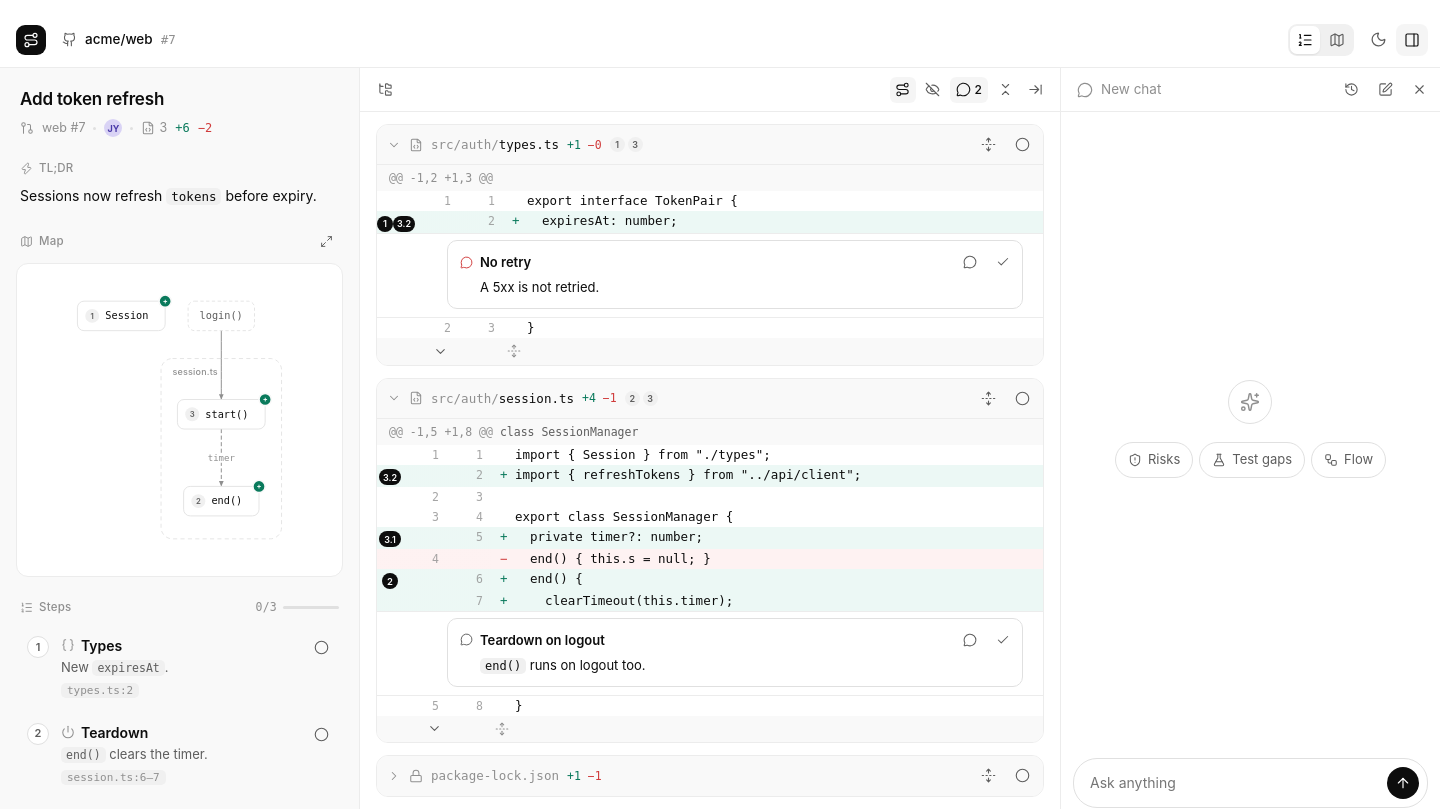
Test: viewed collapses; skippable row expands lockfile; gutter dot focuses step
Check: the heading "Add token refresh" is shown, box [20, 89, 164, 109]
Click the 1st button named "Viewed". click: (1022, 144)
box: [1009, 132, 1035, 158]
(page scrolled)
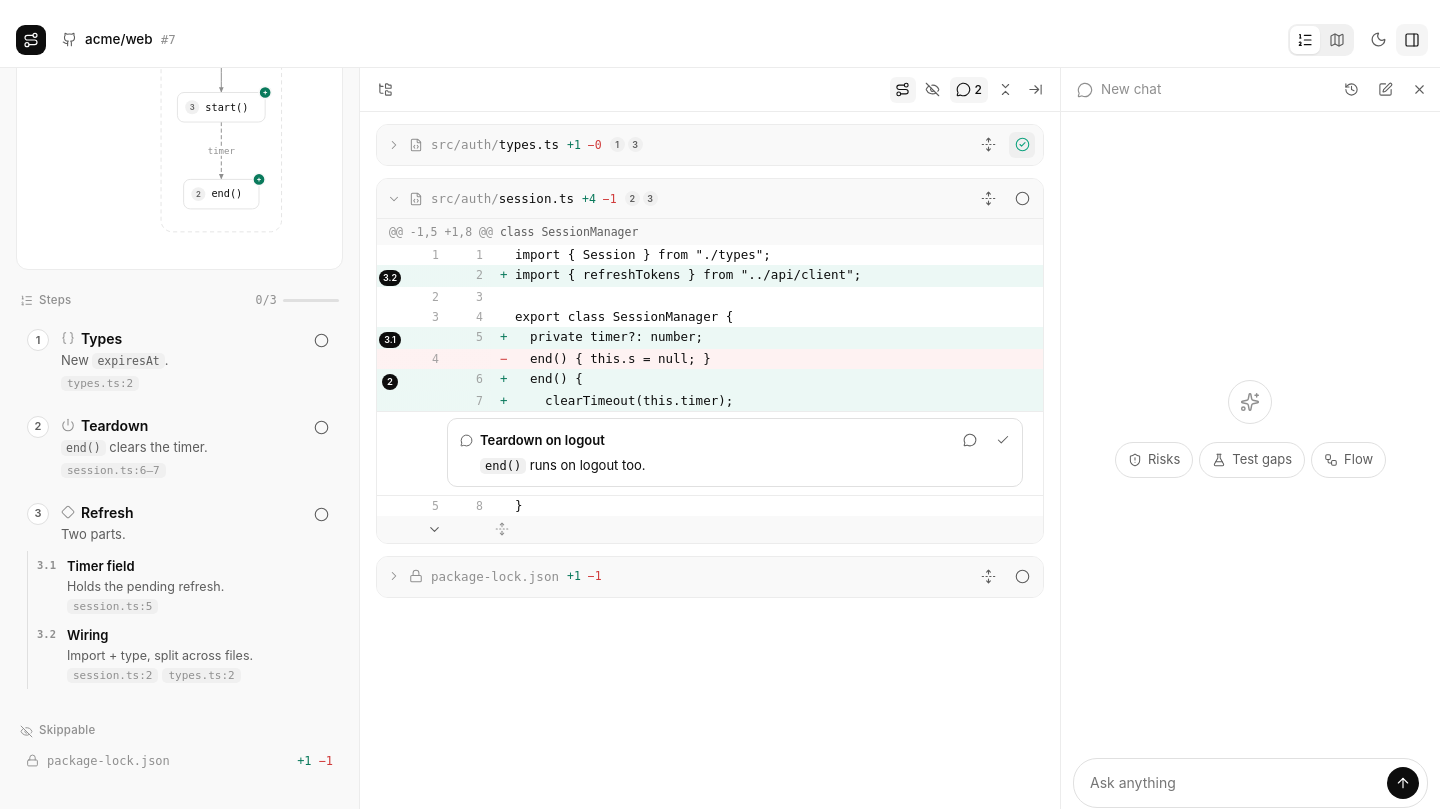
Check: the element with class "file" has class "collapsed", box [376, 124, 1044, 166]
Click the element with class "skip-row". click: (108, 761)
box: [26, 754, 333, 768]
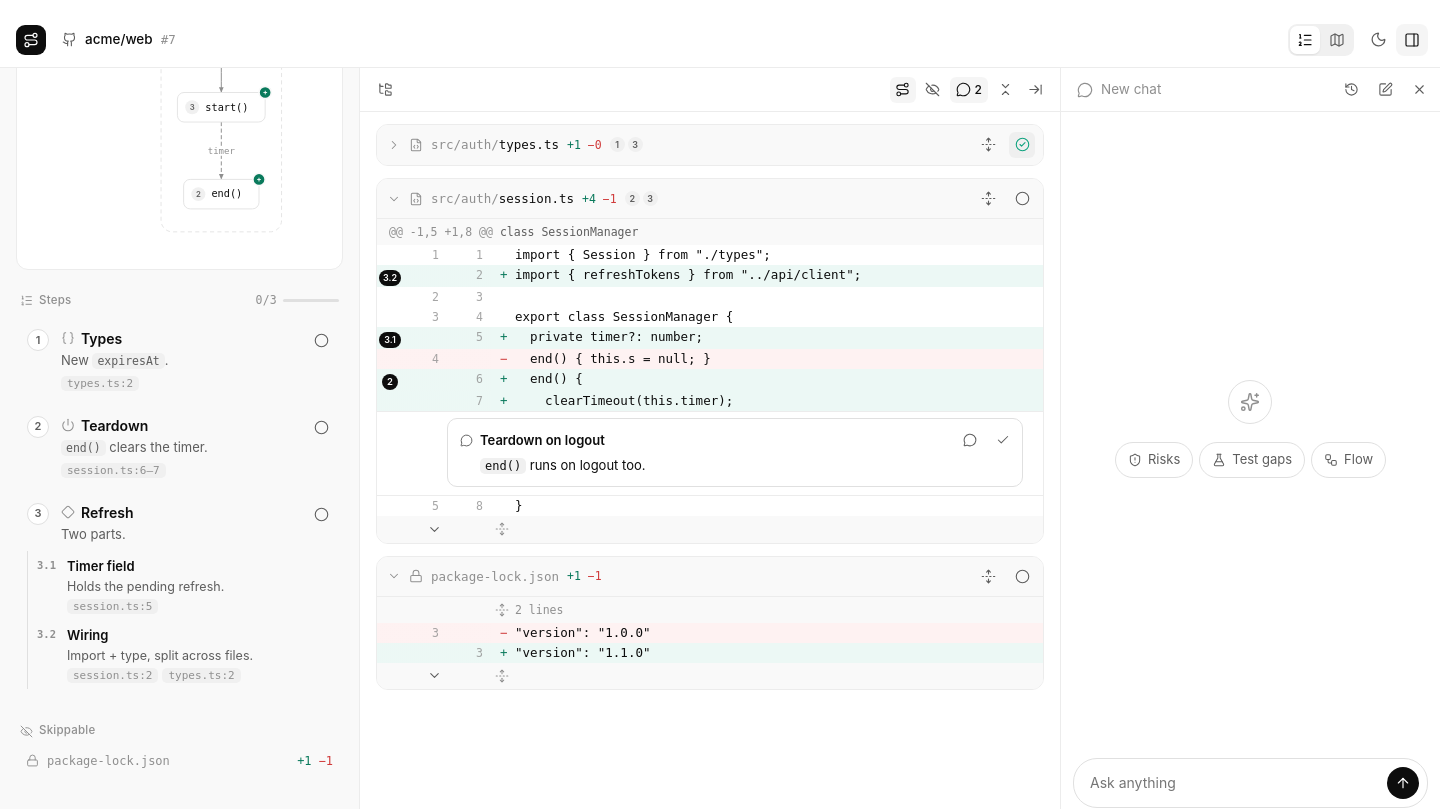
Check: the element with class "file" does not have class "collapsed", box [376, 556, 1044, 690]
Click the text with class "dot" below "end() { this.s = null; }". click: (390, 382)
box: [382, 374, 398, 390]
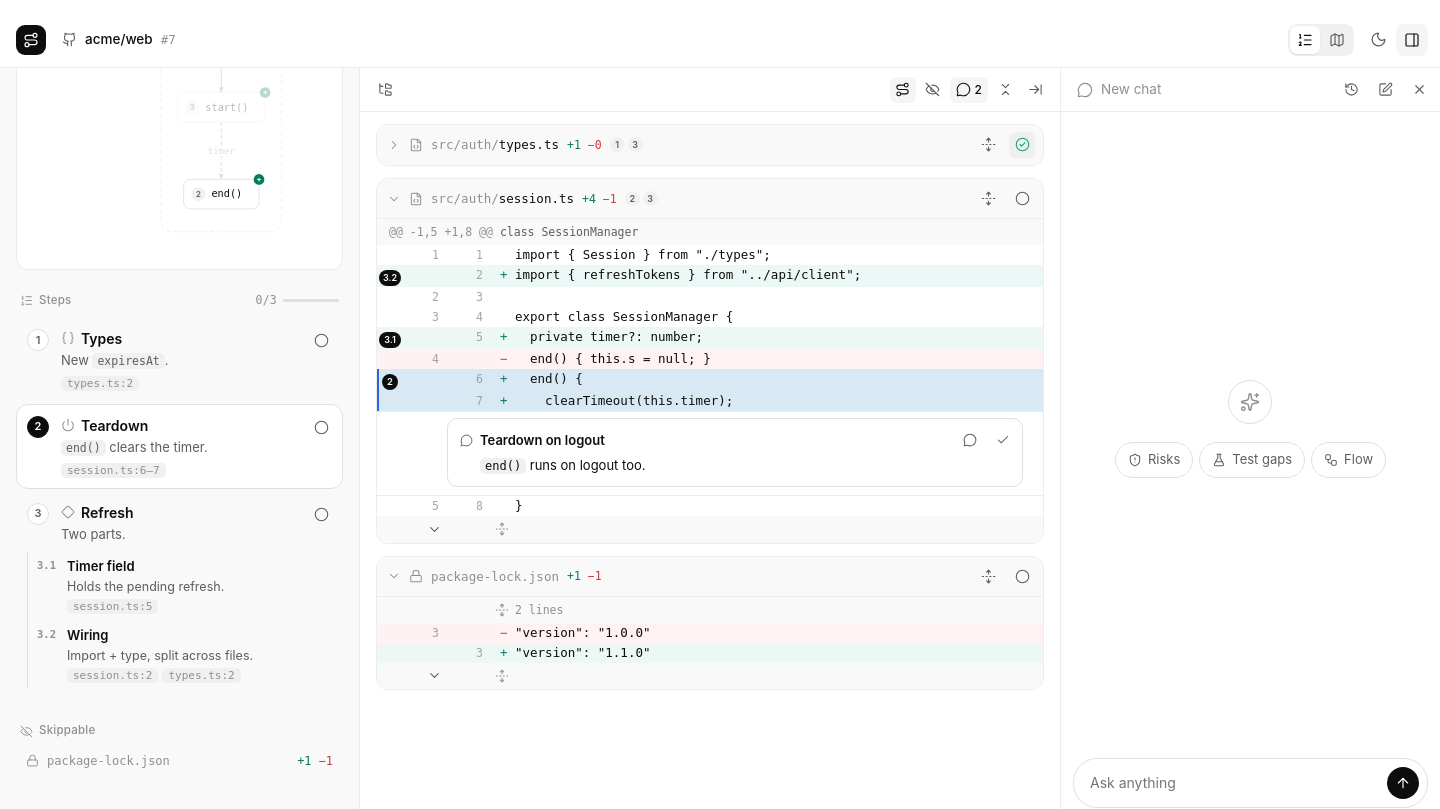
Click the 1st button with class "check". click: (321, 341)
box: [308, 328, 334, 354]
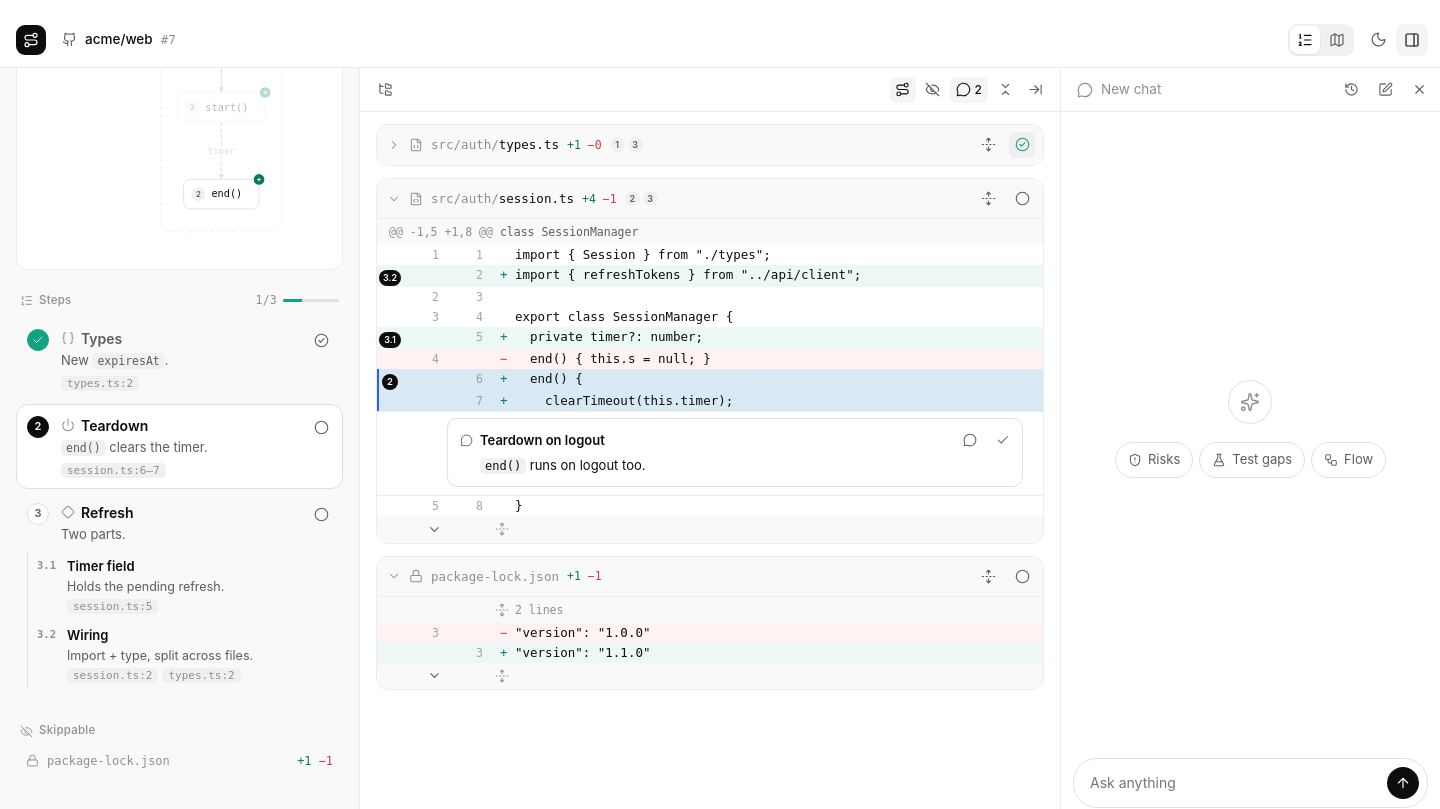
Check: the text "1/3" is shown, box [256, 292, 277, 309]
